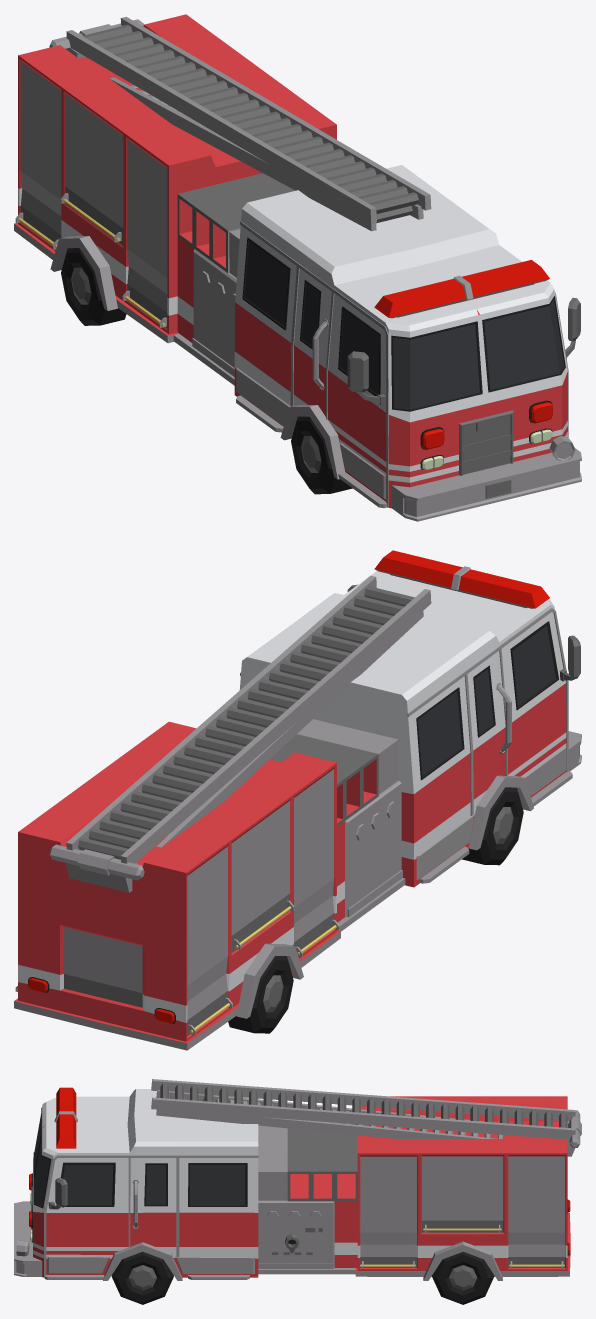
Rendered from fire-engine.glb.
3 views of the same model, one above another, from view 1: azimuth 30°, elevation 25°; view 2: azimuth 150°, elevation 25°; view 3: azimuth 270°, elevation 25° (orthographic). The views are drawn at different scales.
Visible parts, largest first — view 1: BackTires; view 2: BackTires; view 3: BackTires.
Boxes of the visible parts, x1,y1,x2,y2 form: BackTires: (14,14,581,521); BackTires: (14,550,581,1050); BackTires: (14,1079,581,1304).
Size of the model in its own units: 2.75 by 3.01 by 8.41.
Materials: 1 (1 with a texture image).
